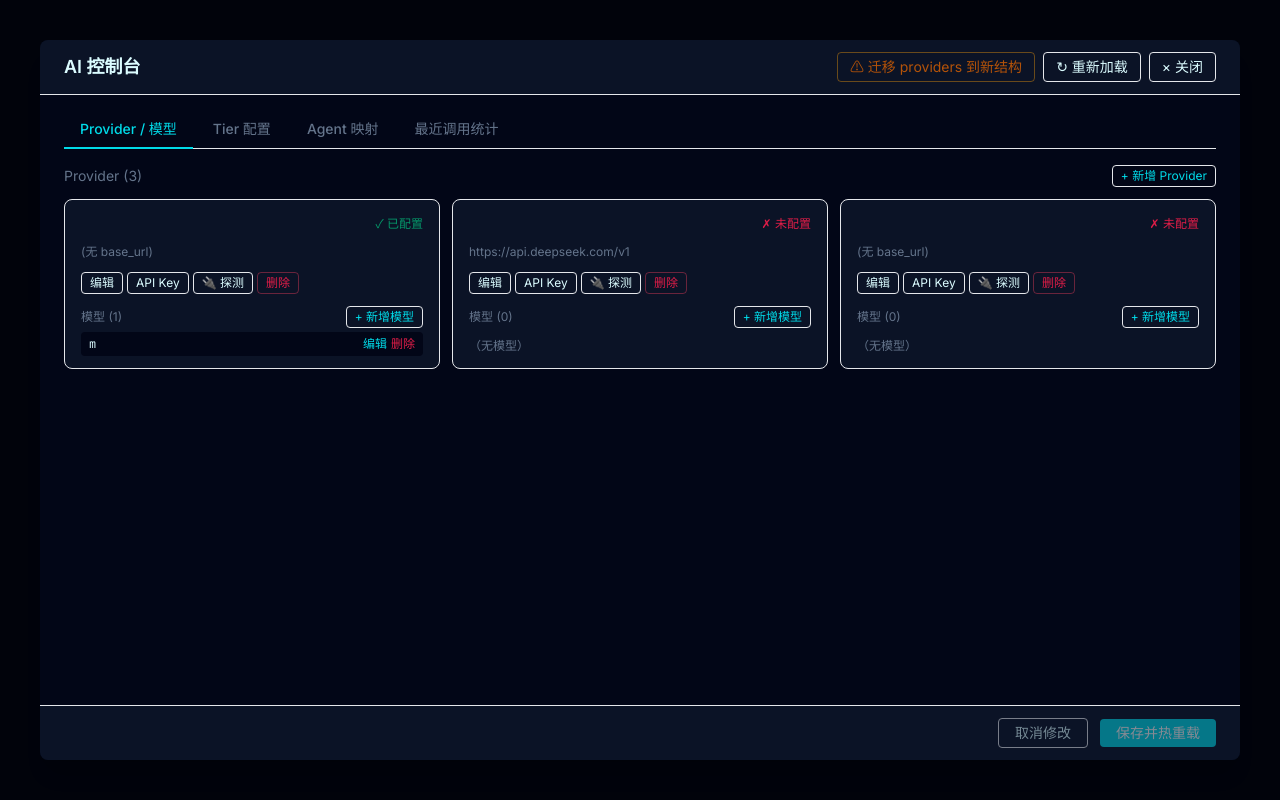
AIConsoleModal › tabs switch between provider, tier, agent panels; provider is default
expect the element with test id "tab-panel-provider" is shown: met, box x1=64 y1=165 x2=1216 y2=369
expect the element with test id "provider-anthropic" is shown: met, box x1=64 y1=199 x2=440 y2=369
Click the tab with test id "tab-tier".
click(242, 130)  # box x1=197 y1=111 x2=287 y2=149
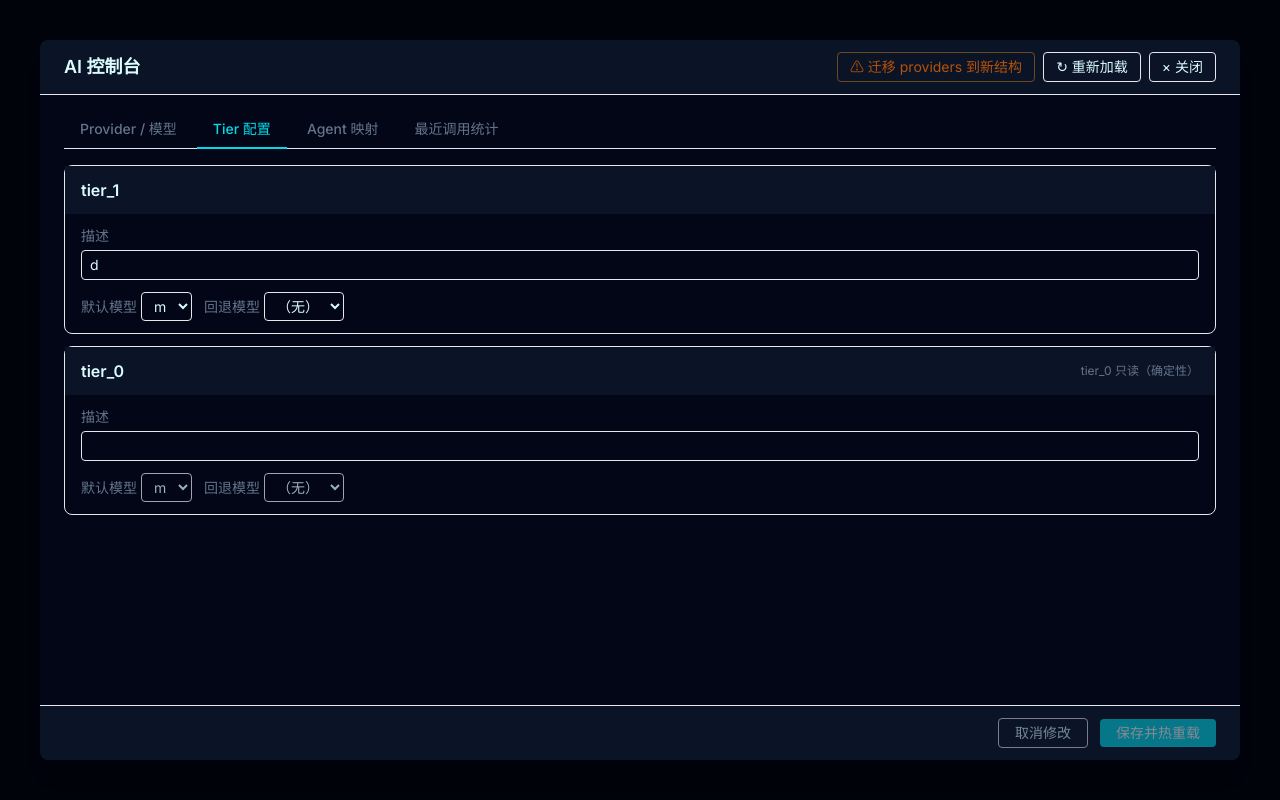
expect the element with test id "tab-panel-tier" is shown: met, box x1=64 y1=165 x2=1216 y2=515
expect the element with test id "tab-panel-provider" is gone: met
Click the tab with test id "tab-agent".
click(343, 130)  # box x1=291 y1=111 x2=394 y2=149
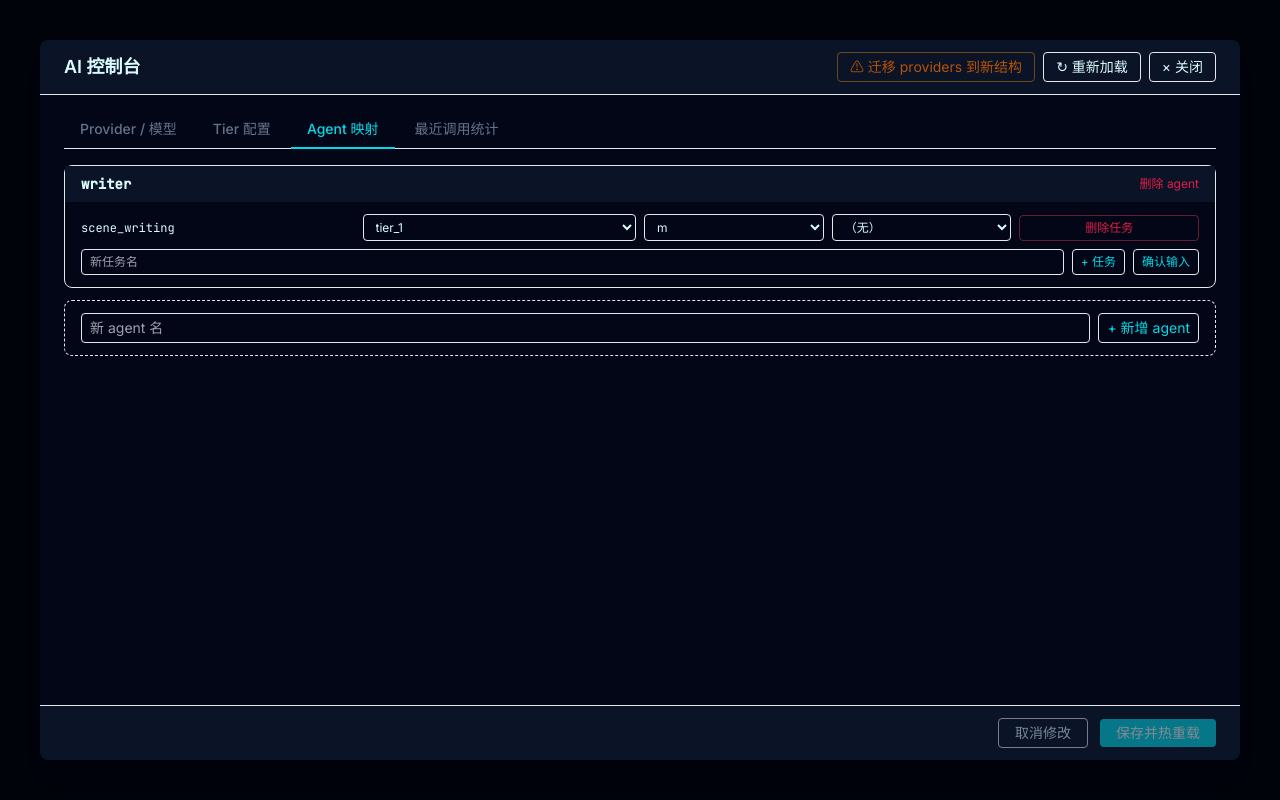
expect the element with test id "tab-panel-agent" is shown: met, box x1=64 y1=165 x2=1216 y2=356
expect the element with test id "tab-panel-tier" is gone: met
